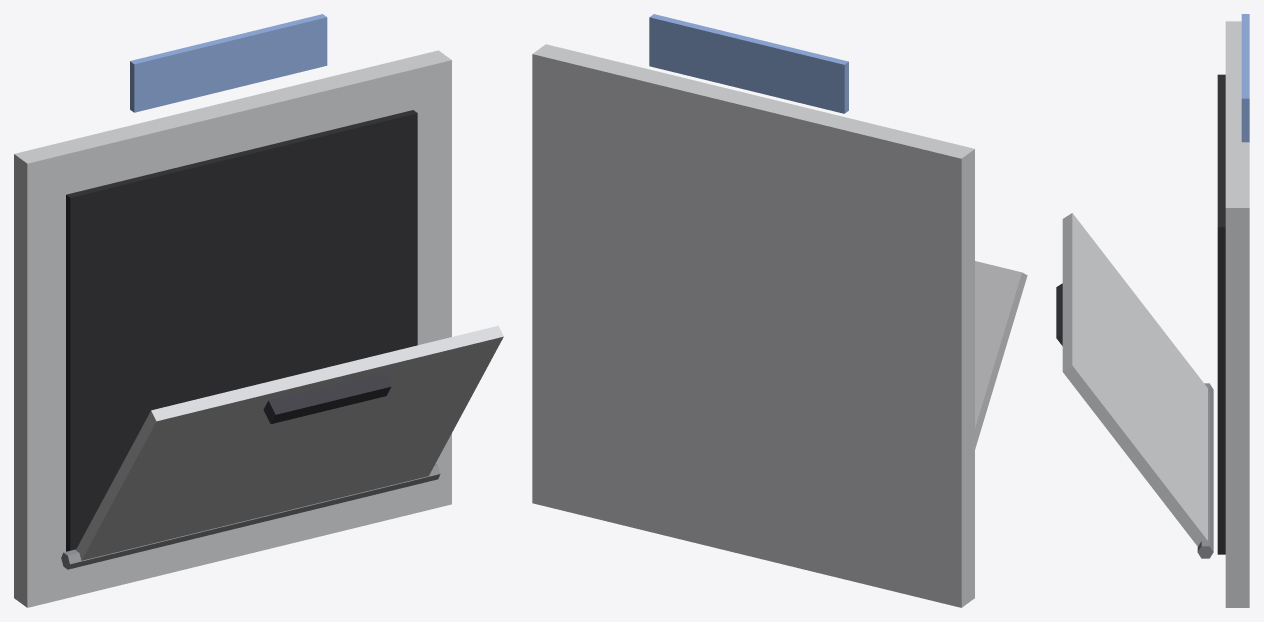
Rendered from HJ_Tolva.fbx.
3 renders of one model, left to right at view 1: azimuth 30°, elevation 25°; view 2: azimuth 150°, elevation 25°; view 3: azimuth 270°, elevation 25°, orthographic. The views are drawn at different scales.
Visible parts, largest first — view 1: HJ_Tolva; view 2: HJ_Tolva; view 3: HJ_Tolva.
Part boxes in pixels (x1=…): HJ_Tolva: x1=14, y1=14, x2=503, y2=607; HJ_Tolva: x1=532, y1=14, x2=1027, y2=607; HJ_Tolva: x1=1056, y1=14, x2=1249, y2=607.
Bounding box in the file's own units: 1.1 × 1.26 × 0.482.
